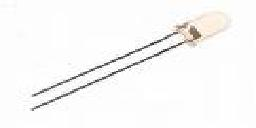LED: (160, 9, 234, 55)
